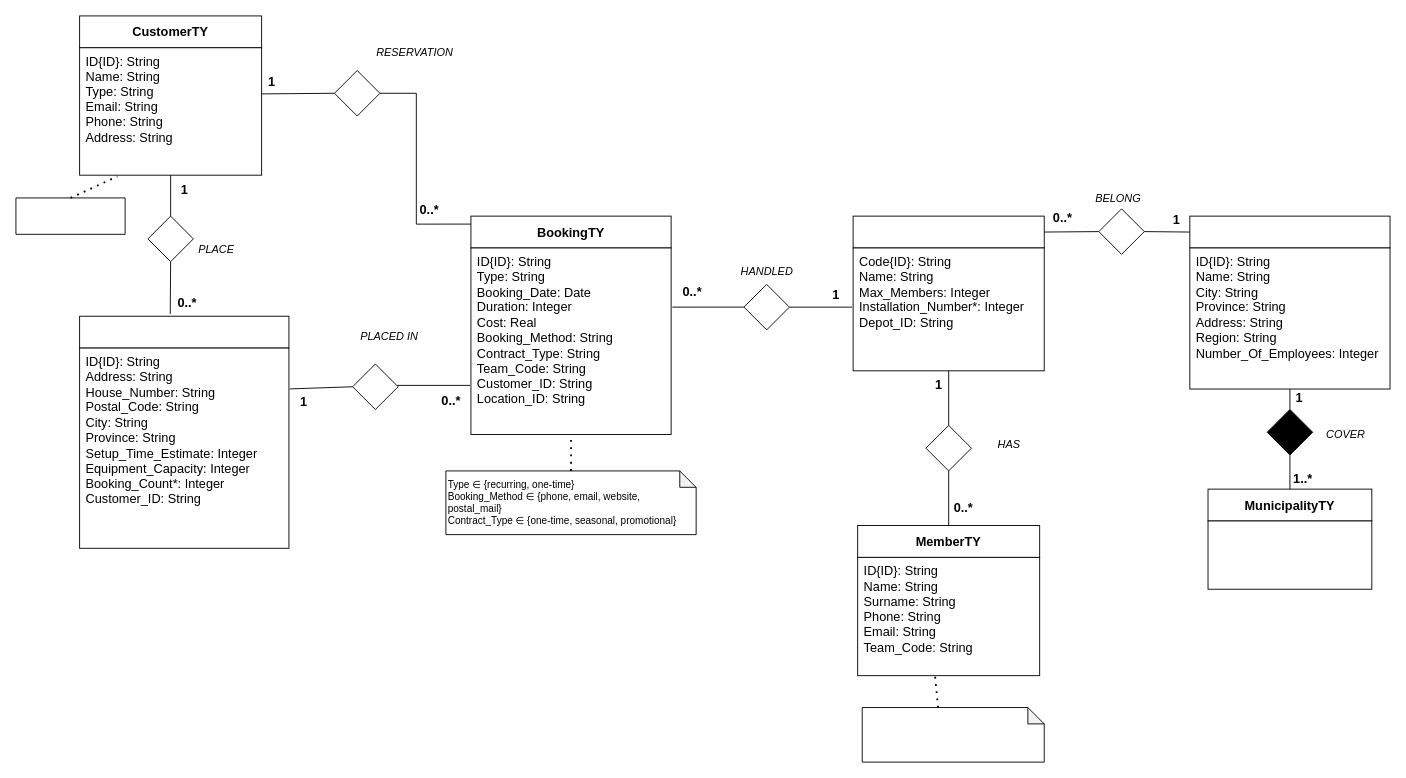
The diagram is 1406 pixels wide and 778 high, and some of its shapes have lost their labels. The centre of each missing label's shape, as x and y in pixels:
"DepotTY" belongs at (x=1289, y=231).
"Event_LocationTY" belongs at (x=184, y=331).
"ID{ID}: String Name: String Depot_ID: String" belongs at (x=1289, y=554).
"Number of members ≤ Max_Members (application-level check)" belongs at (x=952, y=734).
"TeamTY" belongs at (x=948, y=231).
"Type ∈ {Individual, Company}" belongs at (x=70, y=215).
